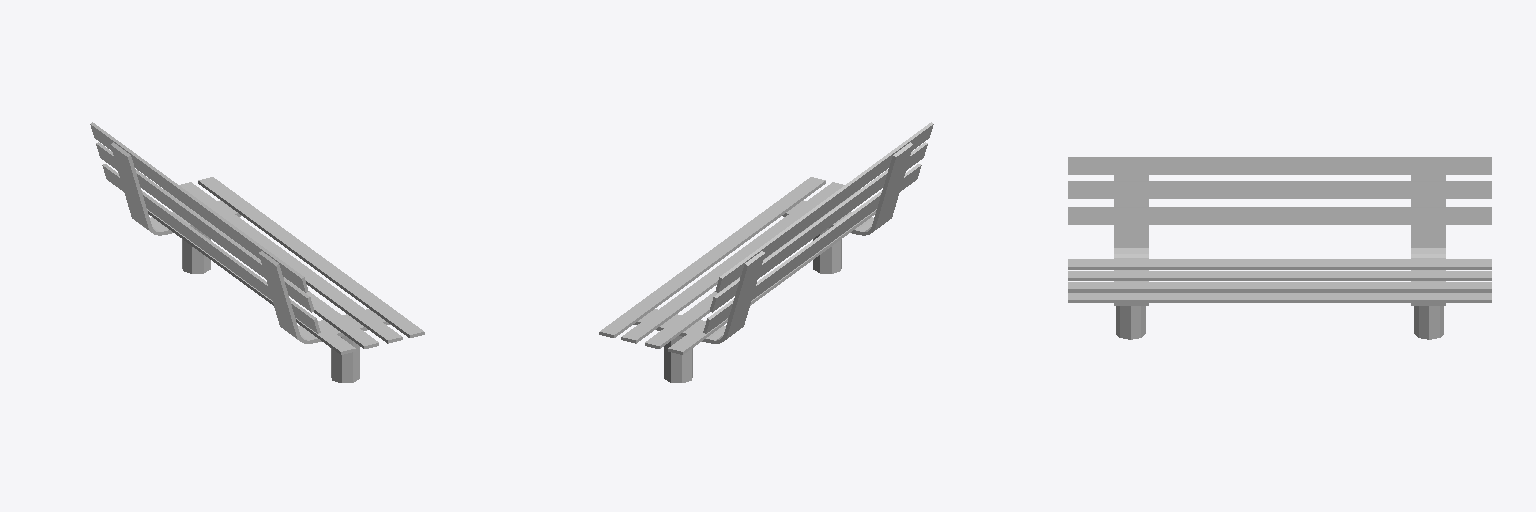
Rendered from 11_CityB_Bench_v1.obj.
3 views of the same model, side by side, from view 1: azimuth 30°, elevation 25°; view 2: azimuth 150°, elevation 25°; view 3: azimuth 270°, elevation 25° (orthographic).
Visible parts, largest first — view 1: Street_bench1; view 2: Street_bench1; view 3: Street_bench1.
Boxes of the visible parts, box(x1,y1,x2,y2) form: Street_bench1: box(90, 122, 424, 382); Street_bench1: box(599, 122, 933, 382); Street_bench1: box(1068, 157, 1491, 339).
Bounding box in the file's own units: 1.58 × 1.69 × 4.61.